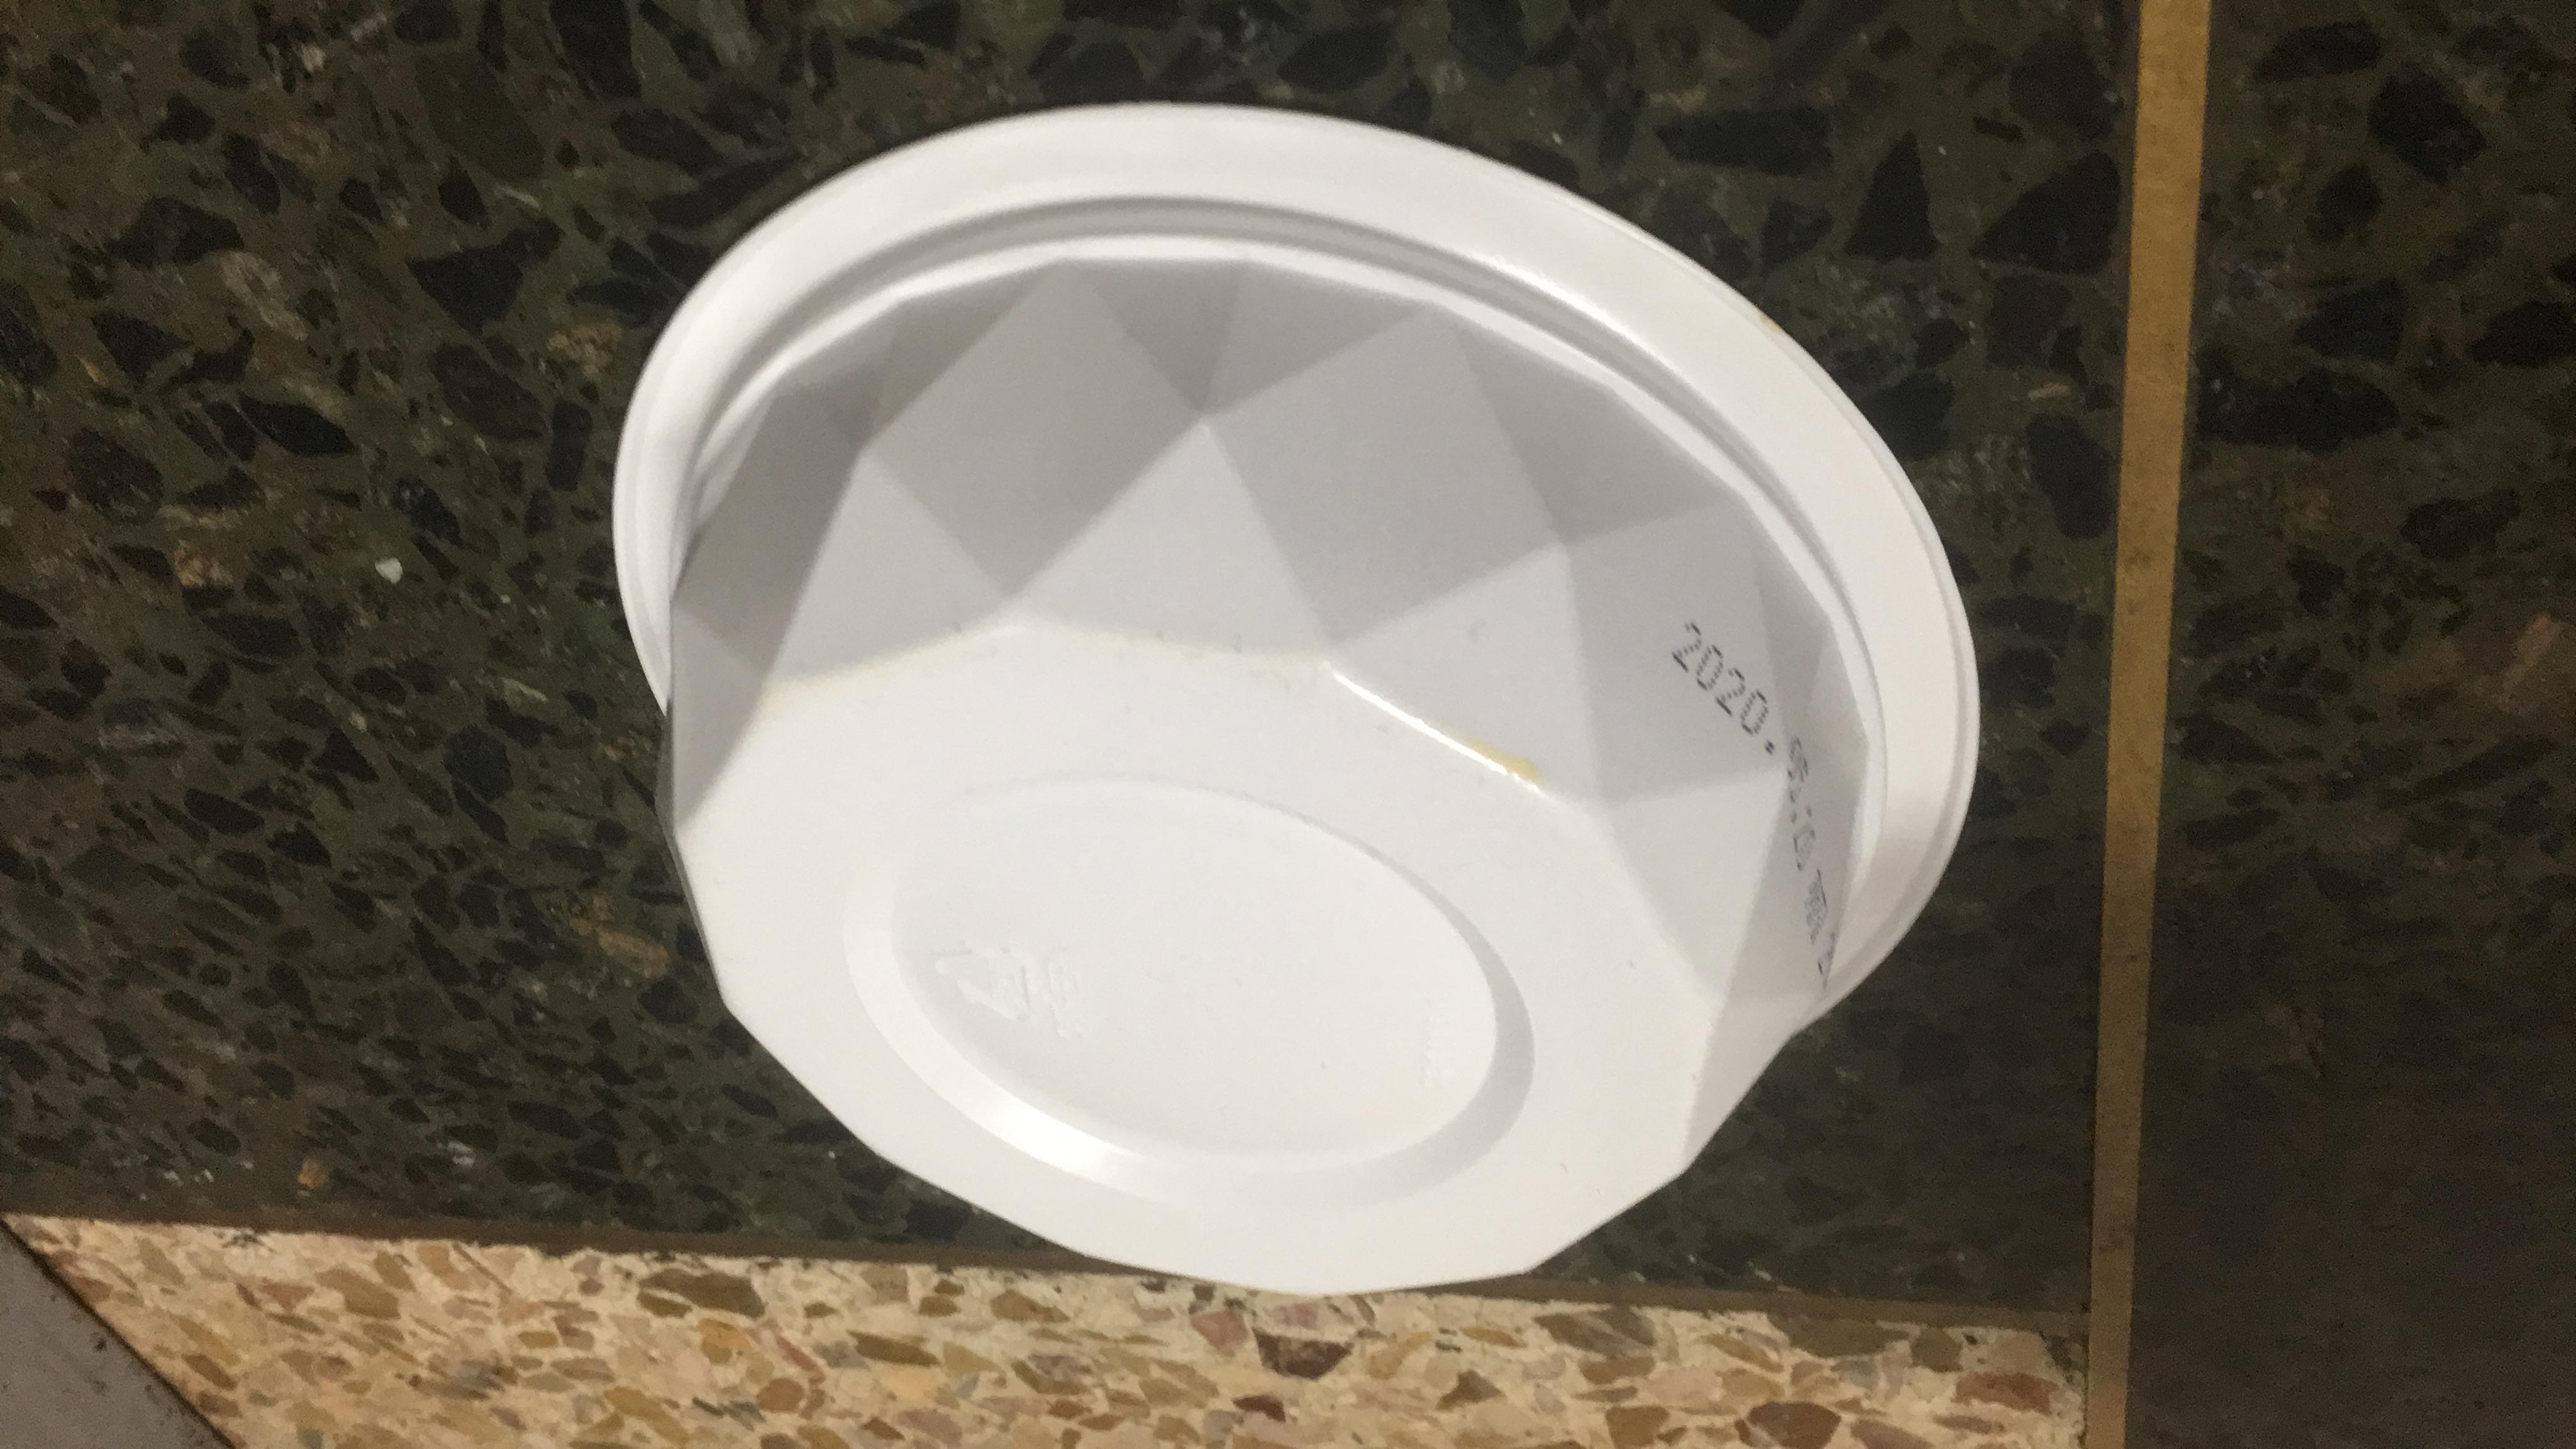bottle: (451, 679, 2102, 747)
